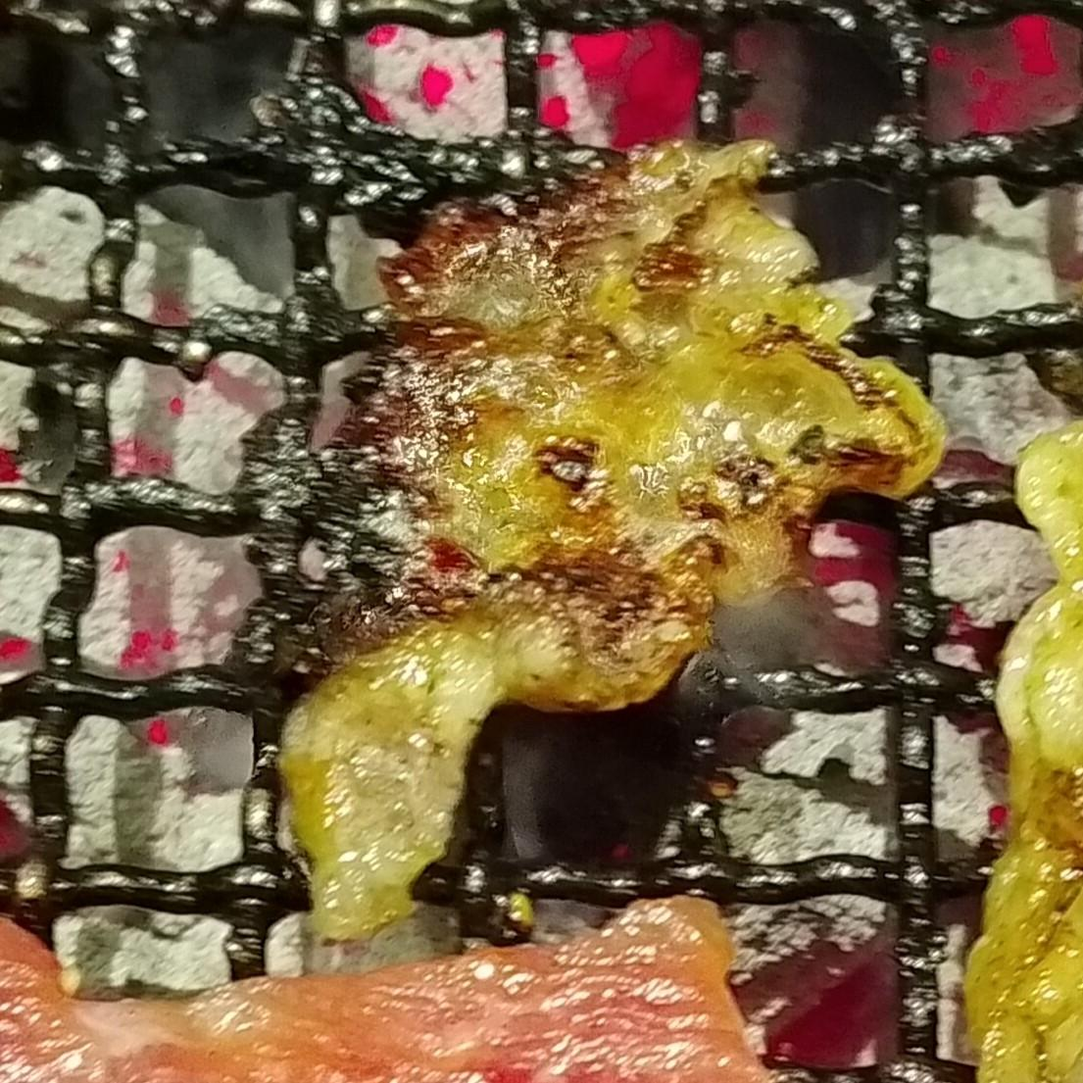Overcooked: (279, 144, 816, 974)
Undercooked: (0, 899, 803, 1082)
Well-Cooked: (971, 421, 1082, 1082)
